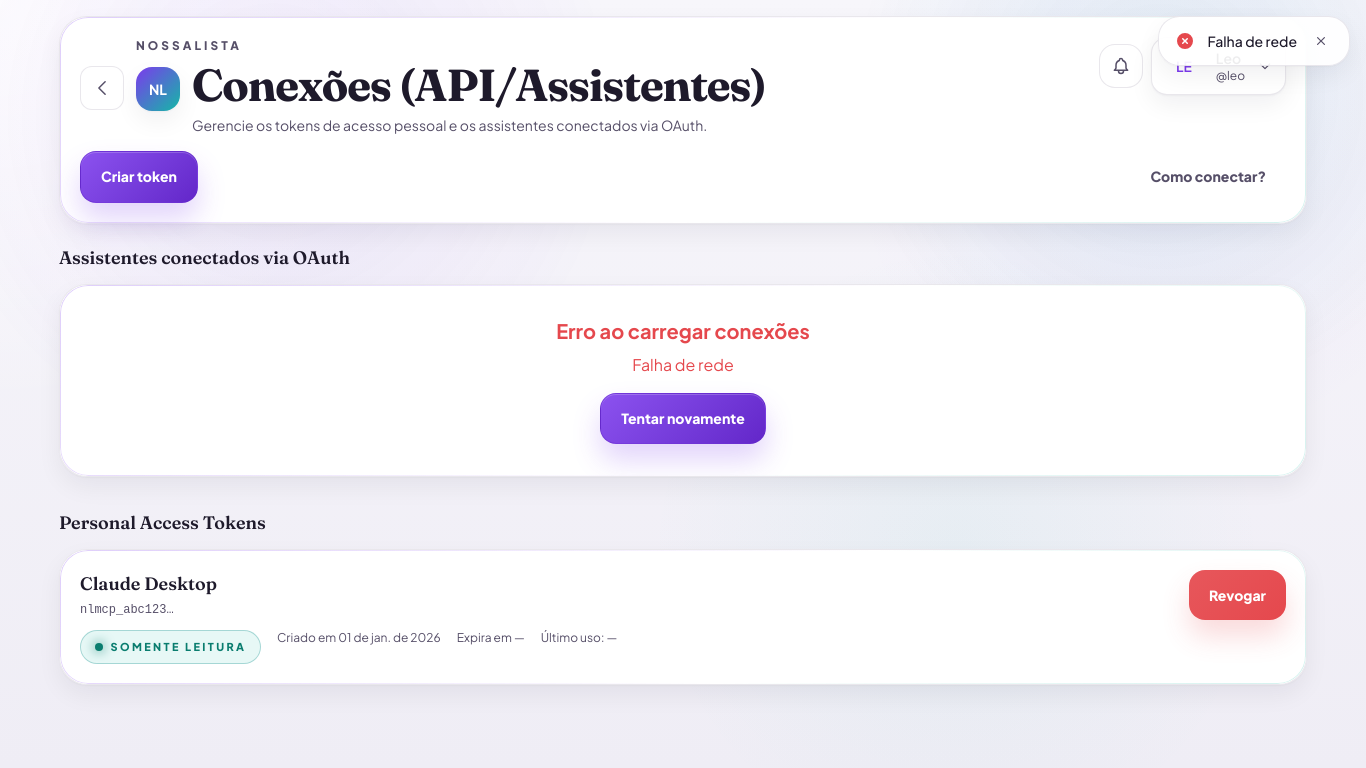
Connections › exibe erro ao falhar o carregamento das conexões OAuth e permite tentar novamente
The width and height of the screenshot is (1366, 768).
Expected: the text "Erro ao carregar conexões" is shown, [556,318,810,342]
Click the button "Tentar novamente".
click(683, 418)  # box [600,392,766,444]
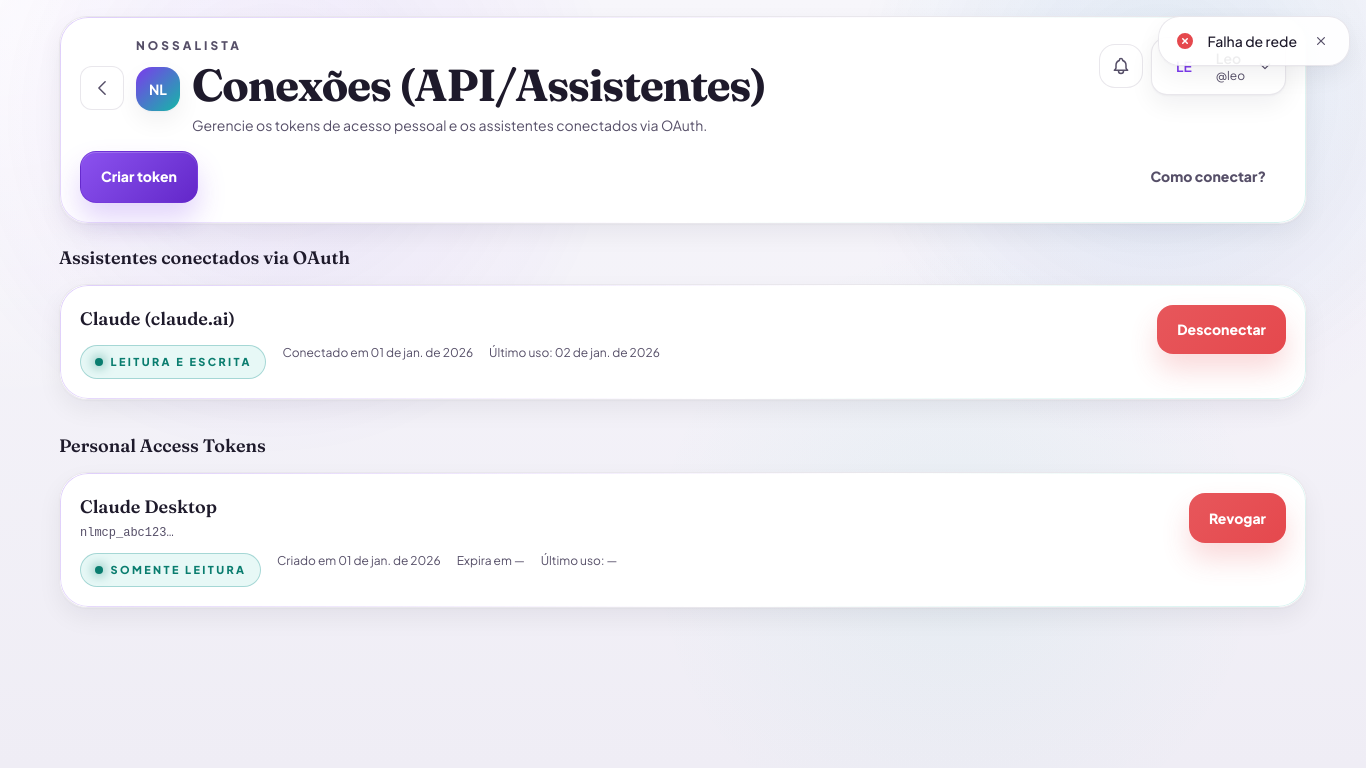
Result: the text "Claude (claude.ai)" is shown at [80,306,235,330]
